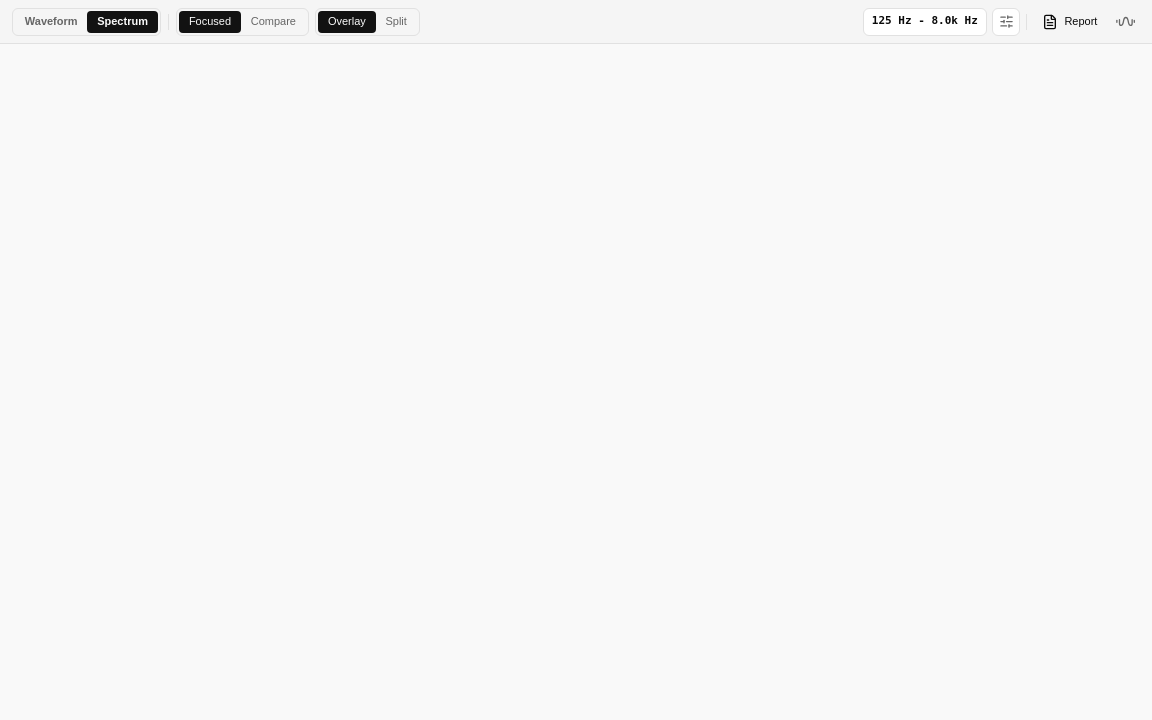
Test: AnalysisWorkspaceHeader › shows filtered spectrum controls and opens the settings panel
Expected: the button "125 Hz - 8.0k Hz" is shown, x1=863 y1=8 x2=987 y2=36
Click the button named "Spectrum settings" at (1006,22), box x1=992 y1=8 x2=1020 y2=36
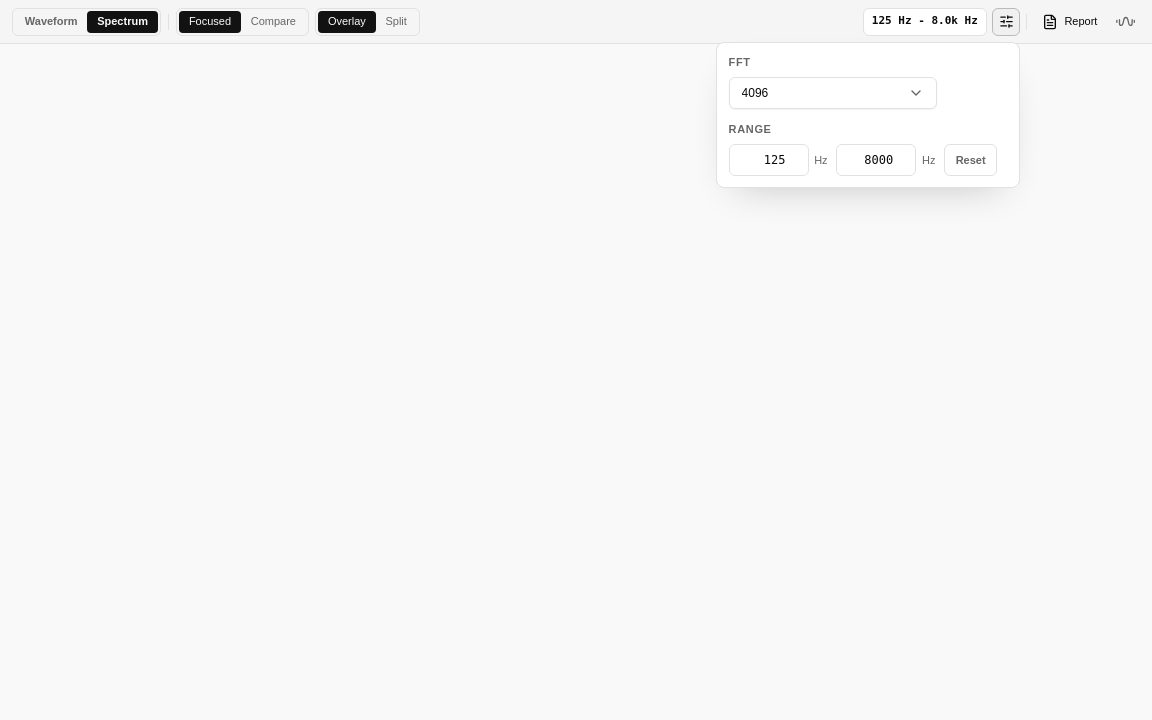
Expected: the dialog named "Spectrum settings" is shown, x1=716 y1=42 x2=1020 y2=188
Expected: the text "FFT" is shown, x1=729 y1=56 x2=751 y2=68
Expected: the button "Reset" is shown, x1=944 y1=144 x2=997 y2=176
